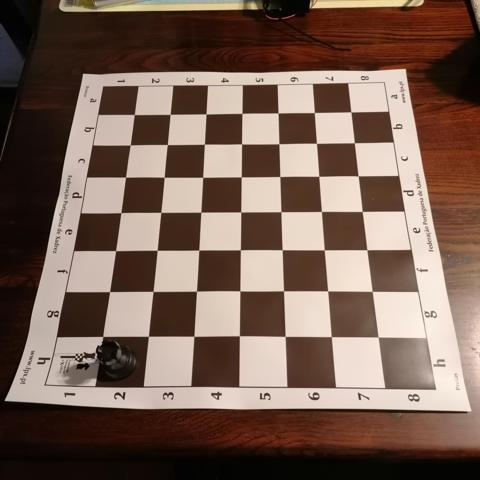xcorner: (125, 107, 142, 124), (347, 135, 364, 152), (311, 168, 328, 185), (360, 242, 377, 259), (186, 283, 203, 300), (371, 330, 388, 347), (307, 105, 323, 122), (233, 106, 250, 122), (233, 136, 249, 153), (195, 137, 212, 153), (351, 168, 368, 184), (232, 169, 249, 185), (193, 169, 210, 185), (116, 169, 132, 186), (191, 204, 208, 220), (317, 242, 333, 259), (231, 242, 248, 258), (105, 242, 122, 258), (366, 284, 382, 301), (320, 284, 337, 300), (275, 284, 292, 300), (92, 328, 109, 344), (344, 105, 360, 121), (270, 106, 286, 122), (197, 107, 213, 123), (161, 107, 177, 123), (309, 136, 325, 152), (271, 136, 287, 152), (158, 137, 174, 153), (121, 137, 137, 153), (272, 169, 288, 185), (155, 169, 171, 185), (356, 204, 372, 220), (314, 204, 330, 220), (273, 204, 289, 220), (232, 204, 248, 220), (151, 204, 167, 220), (111, 204, 127, 220), (274, 242, 290, 258), (189, 242, 205, 258), (147, 242, 163, 258), (231, 284, 247, 300), (143, 283, 159, 299), (99, 283, 115, 299), (324, 330, 340, 346), (277, 330, 293, 346), (230, 329, 246, 345), (184, 329, 200, 345), (138, 328, 154, 344)
